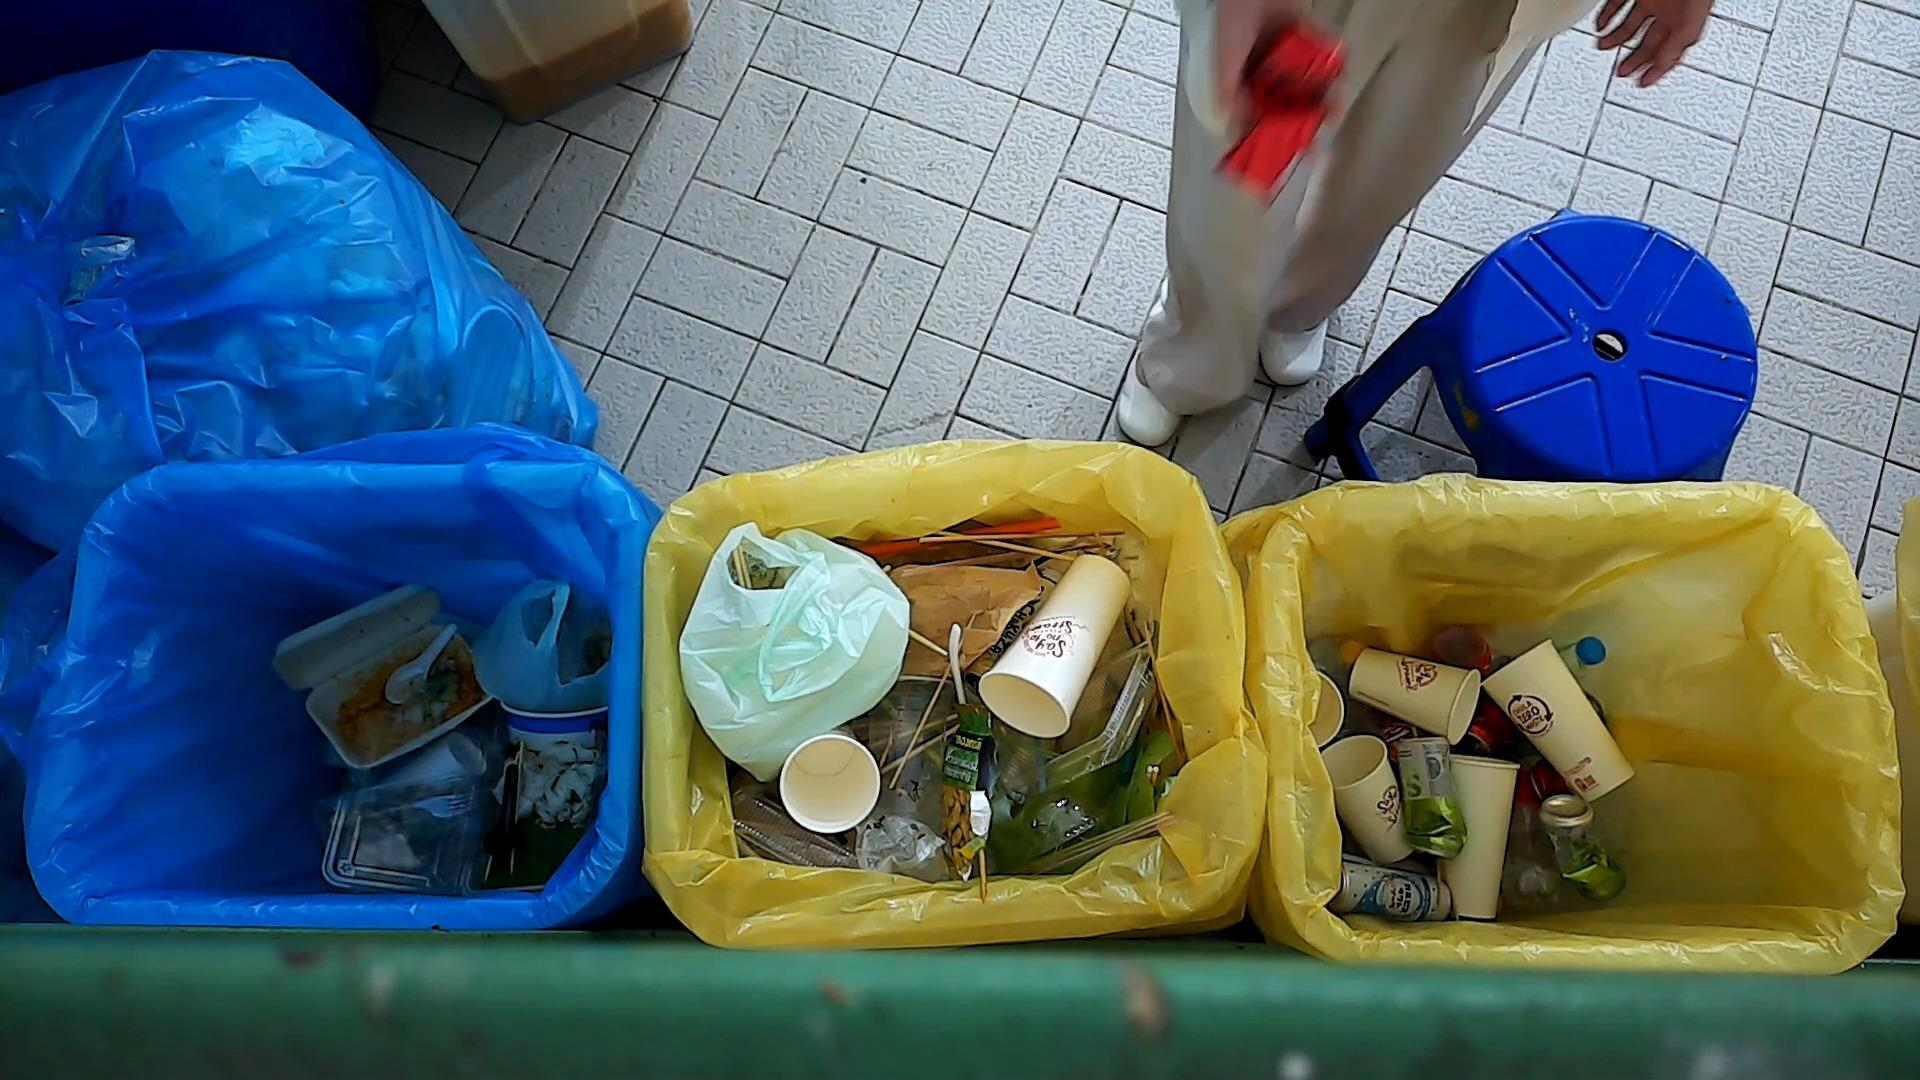can: (1209, 8, 1357, 220), (1532, 791, 1630, 909), (1391, 733, 1470, 864), (1328, 858, 1455, 926)
dirty food container: (319, 711, 604, 895), (268, 572, 492, 777), (310, 770, 484, 903)
filled plastic bag: (676, 513, 914, 783), (467, 570, 616, 713)
food container: (993, 638, 1159, 806), (497, 698, 611, 758)
paper bag: (890, 547, 1043, 676)
plastic bag: (844, 803, 960, 878)
plastic cup: (847, 669, 957, 831)
plastic cutlery: (381, 621, 463, 709), (480, 758, 526, 861)
snack packaging: (936, 700, 1002, 886)
sticks: (885, 613, 978, 790), (1141, 620, 1185, 767), (926, 525, 1075, 567), (915, 525, 1131, 547), (509, 738, 526, 880)
straw: (898, 551, 1039, 587)
zero waste cup: (975, 553, 1133, 742), (1477, 634, 1639, 810), (1431, 749, 1520, 922), (1345, 642, 1484, 748), (1317, 731, 1416, 866), (777, 721, 885, 836)
